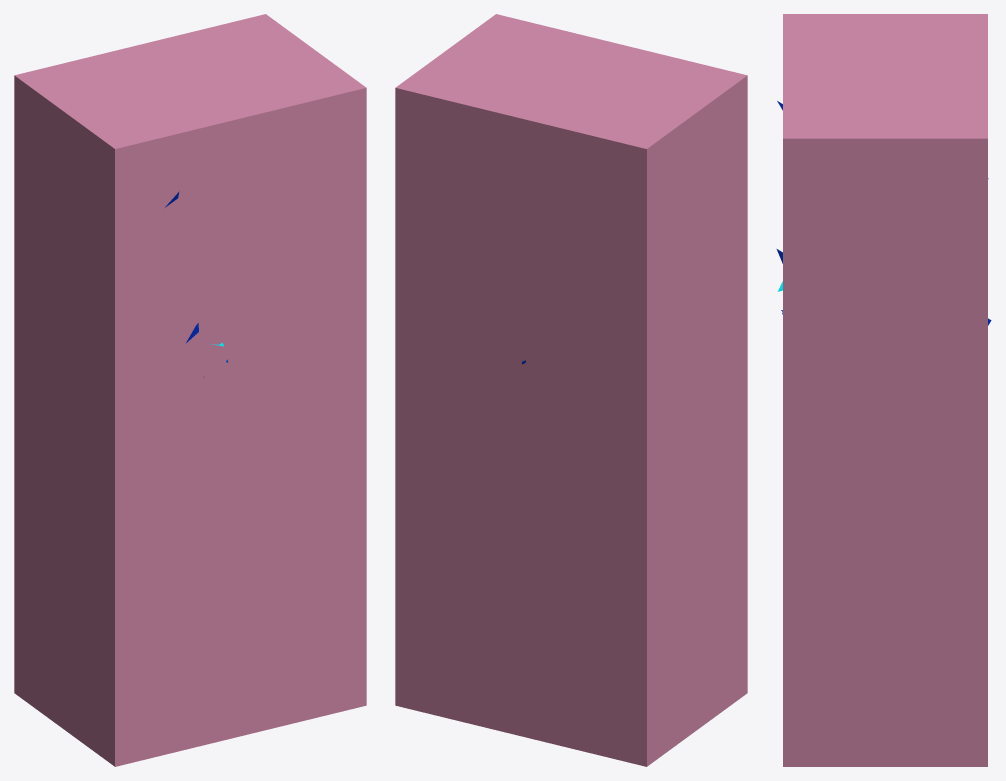
The model's file is tree_aspen_small_c.dae.
3 views of the same model, side by side, from view 1: azimuth 30°, elevation 25°; view 2: azimuth 150°, elevation 25°; view 3: azimuth 270°, elevation 25° (orthographic).
Visible parts, largest first — view 1: Untitled; view 2: Untitled; view 3: Untitled.
Part boxes in pixels (box(x1,y1,x2,y2)): Untitled: box(14, 14, 366, 766); Untitled: box(395, 14, 747, 766); Untitled: box(783, 14, 987, 766).
Size of the model in its own units: 3.24 by 2.36 by 7.87.
